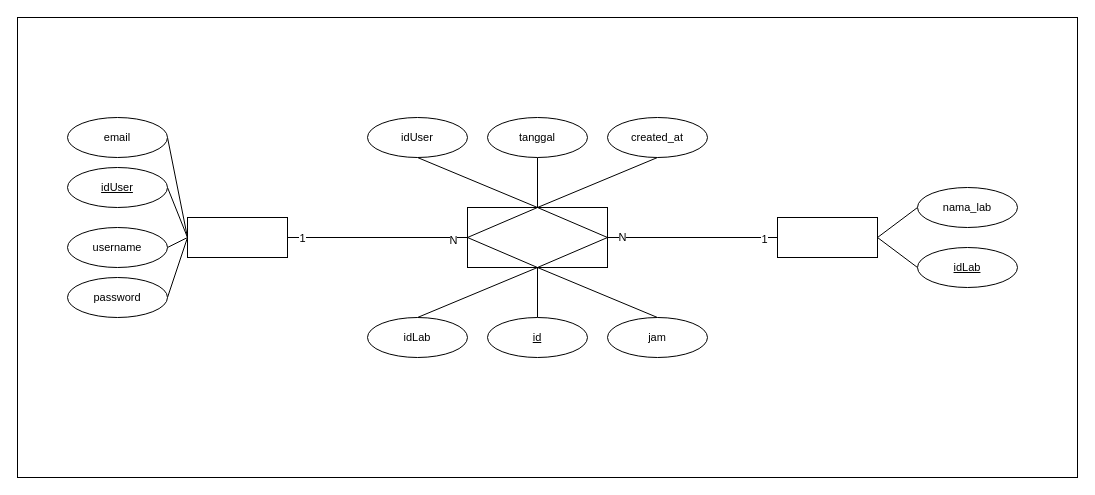
Some shapes in this 1095 by 495 pixel diagram are drawn without their labels. Here are the shapes that lost their labels. From the top down, the box of each, then its label:
(186, 216, 288, 258): user
(466, 206, 608, 268): peminjaman
(776, 216, 878, 258): lab
